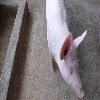heo: (44, 9, 88, 98)
